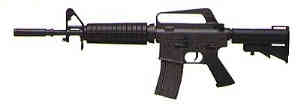rifle: (9, 7, 291, 99)
